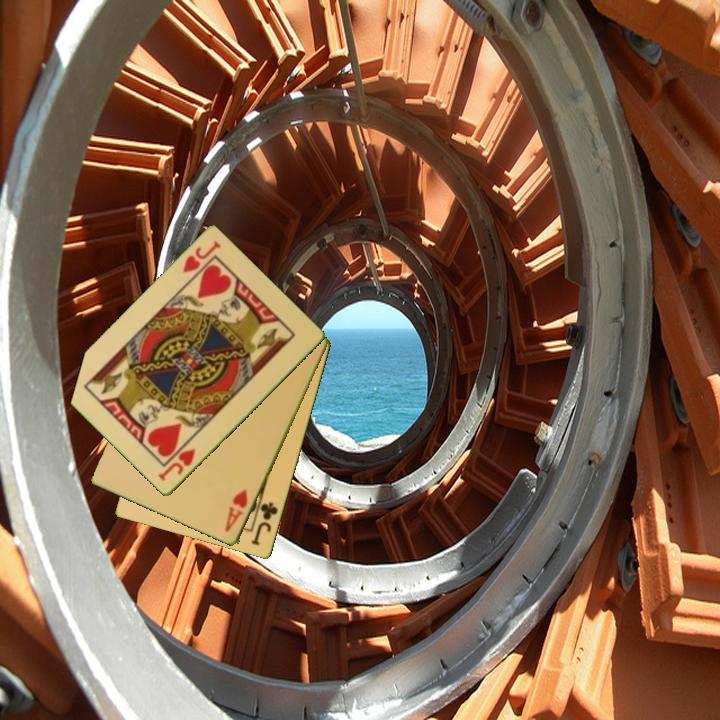Ah: (221, 486, 251, 536)
Jc: (248, 499, 281, 549)
Jh: (154, 445, 199, 484), (179, 238, 224, 276)
